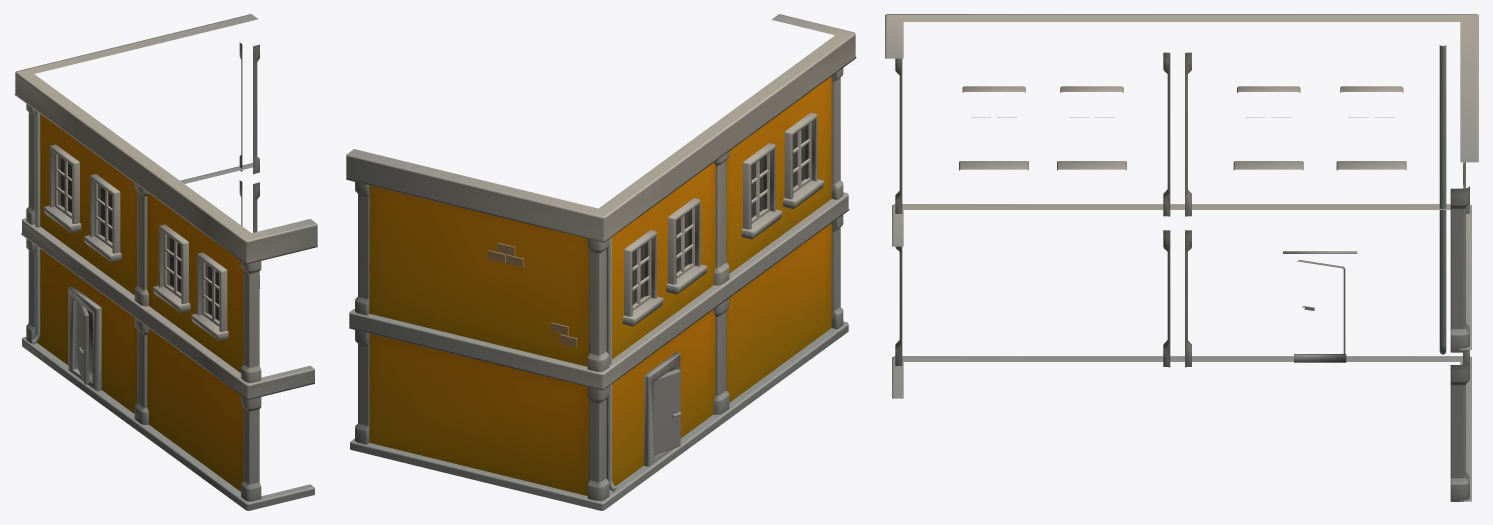
Rendered from Apartments01.glb.
3 views of the same model, side by side, from view 1: azimuth 30°, elevation 25°; view 2: azimuth 150°, elevation 25°; view 3: azimuth 270°, elevation 25° (orthographic). The views are drawn at different scales.
Parts seen in each view (by area): view 1: Apartments01; view 2: Apartments01; view 3: Apartments01.
Part boxes in pixels (bbox=[...]): Apartments01: bbox=[14, 14, 317, 510]; Apartments01: bbox=[346, 14, 856, 510]; Apartments01: bbox=[885, 14, 1478, 501].
Size of the model in its own units: 10.7 by 11.66 by 17.96.
2 materials, 1 textured.
